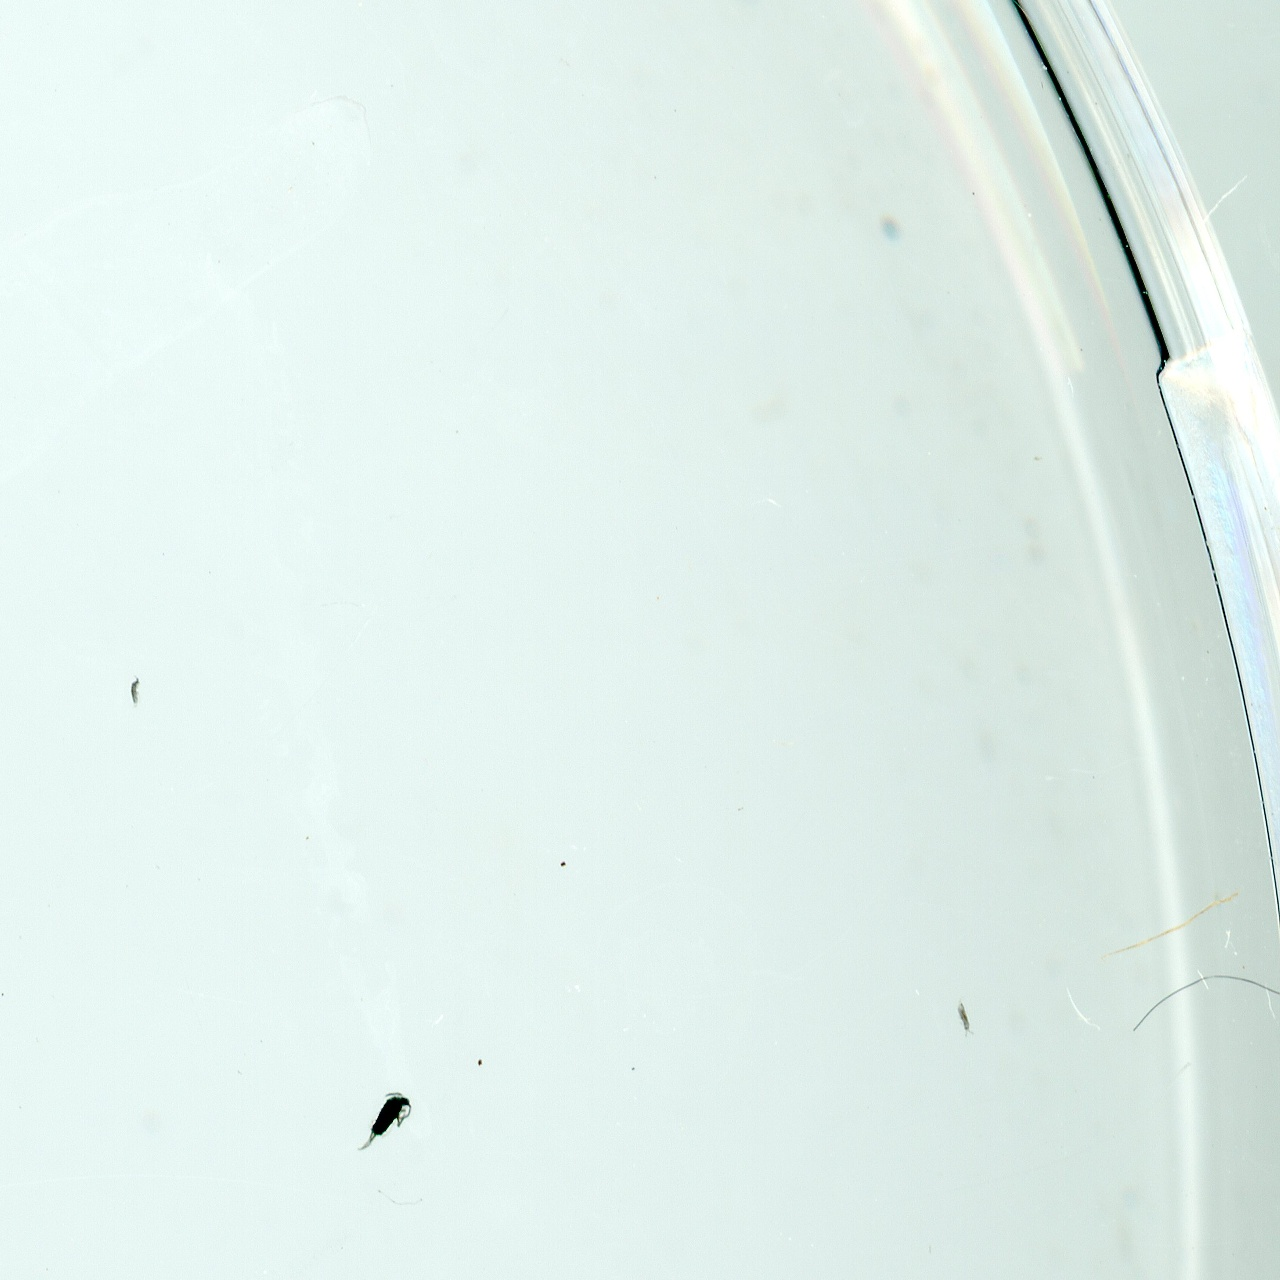arthropod: (352, 1078, 420, 1167), (948, 987, 982, 1044), (128, 667, 144, 719)
